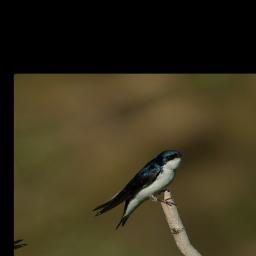Swallow: (73, 145, 211, 237)
